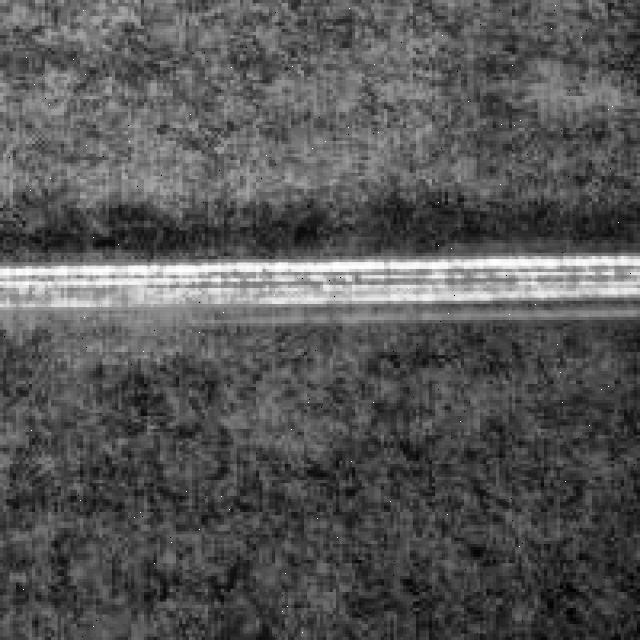Inclusion: (6, 246, 640, 317)
